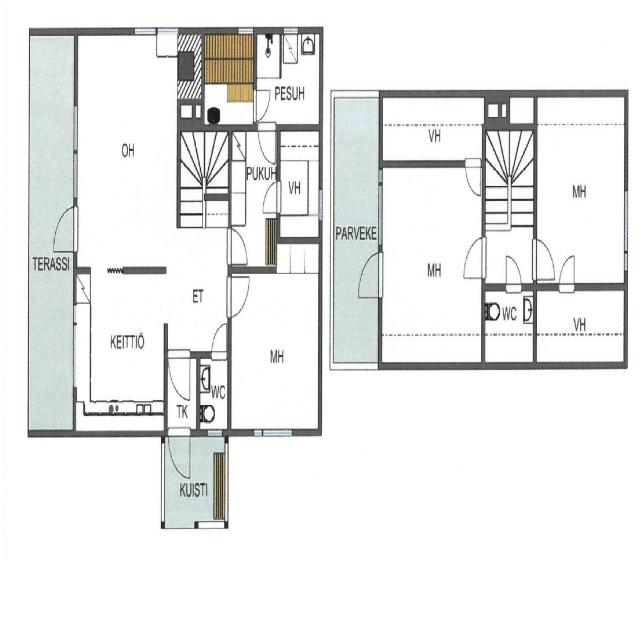door: (47, 208, 76, 252), (353, 254, 382, 296), (459, 238, 486, 278), (534, 240, 560, 280), (168, 430, 190, 473), (228, 278, 253, 315), (169, 352, 190, 394), (228, 230, 250, 263), (258, 124, 276, 161), (253, 91, 274, 121), (260, 182, 280, 212), (465, 160, 480, 193), (559, 257, 574, 290), (506, 257, 521, 290), (212, 326, 226, 358)
